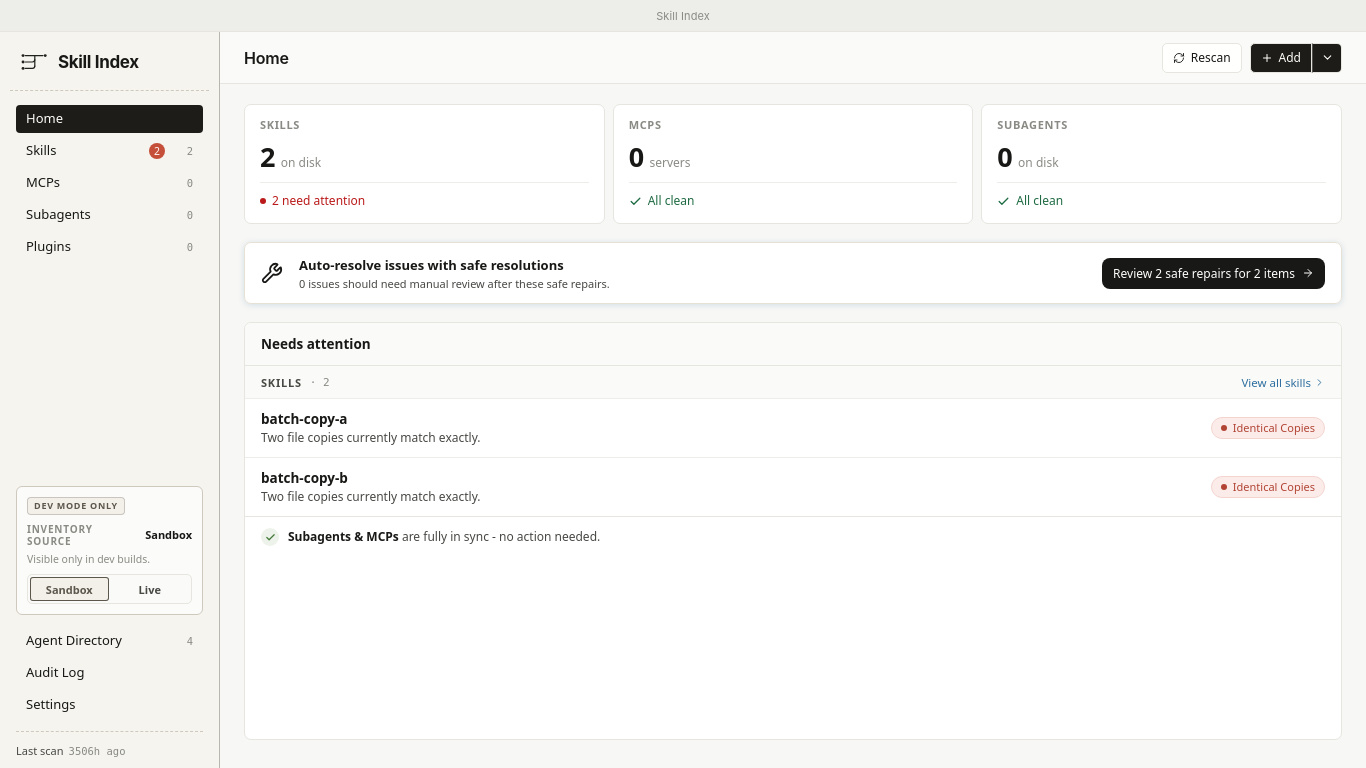
App shell inventory views › recomputes Home auto-resolve batches after each successful repair
Click the button "Review 2 safe repairs for 2 items": click(1214, 273) [1102,258,1325,289]
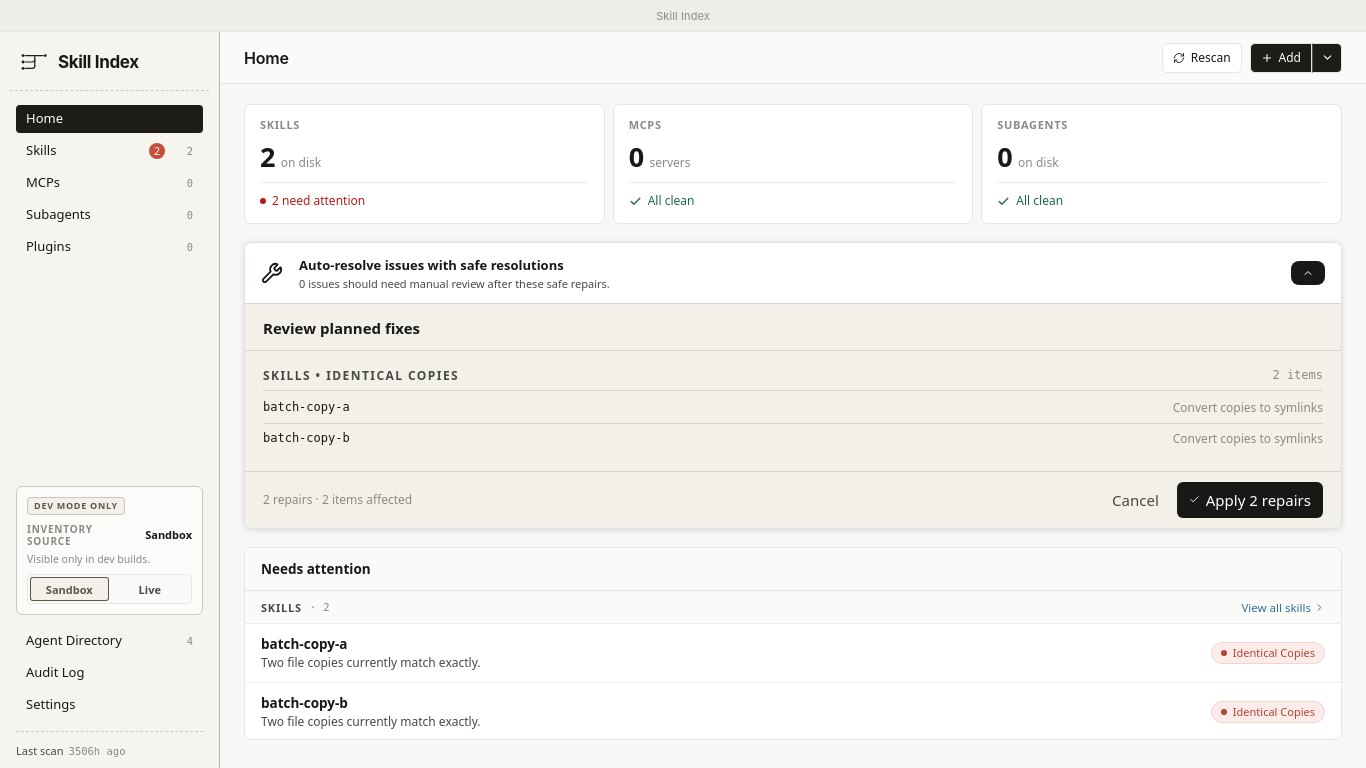
Click the button "Apply 2 repairs": click(1250, 500) [1177,482,1323,518]
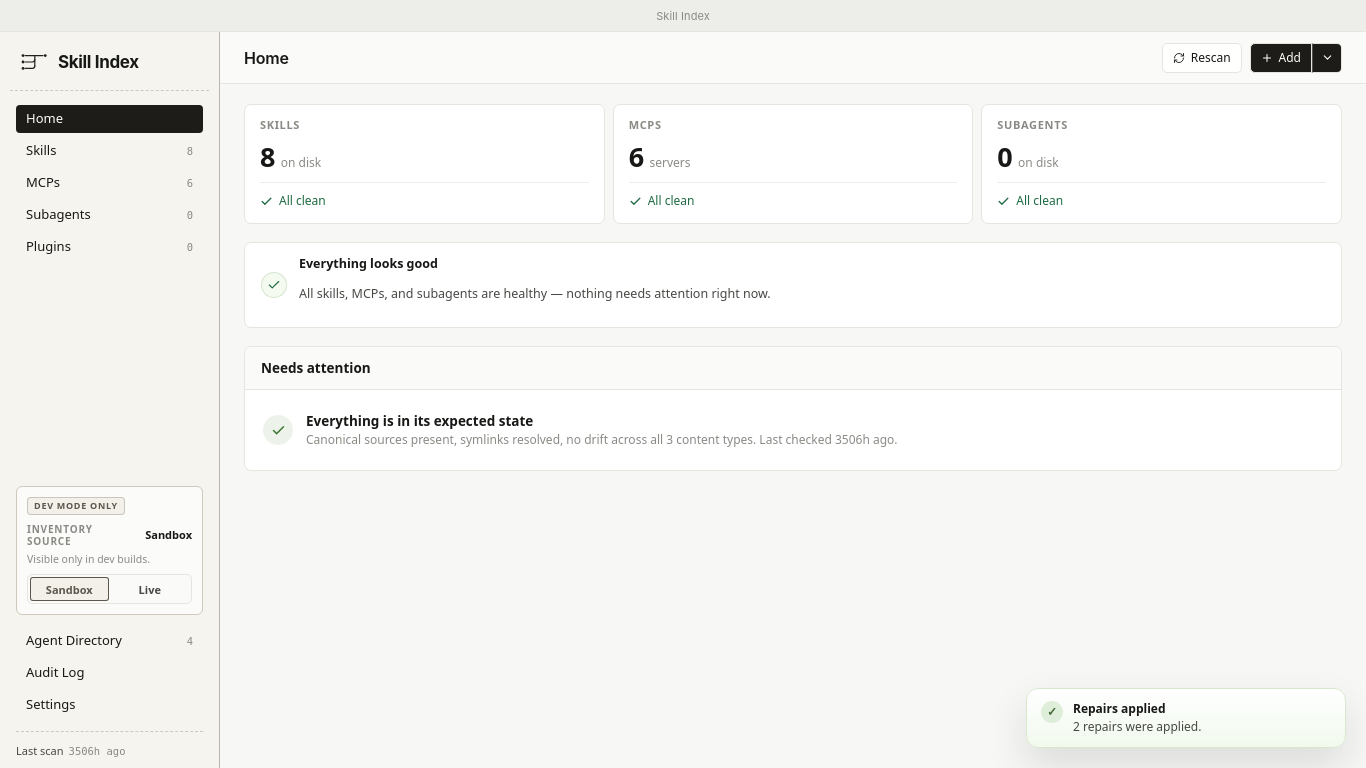
Result: the message shows "Repairs applied" at [1073,700,1166,717]
Result: the text "2 repairs were applied." is shown at [1073,718,1201,735]
